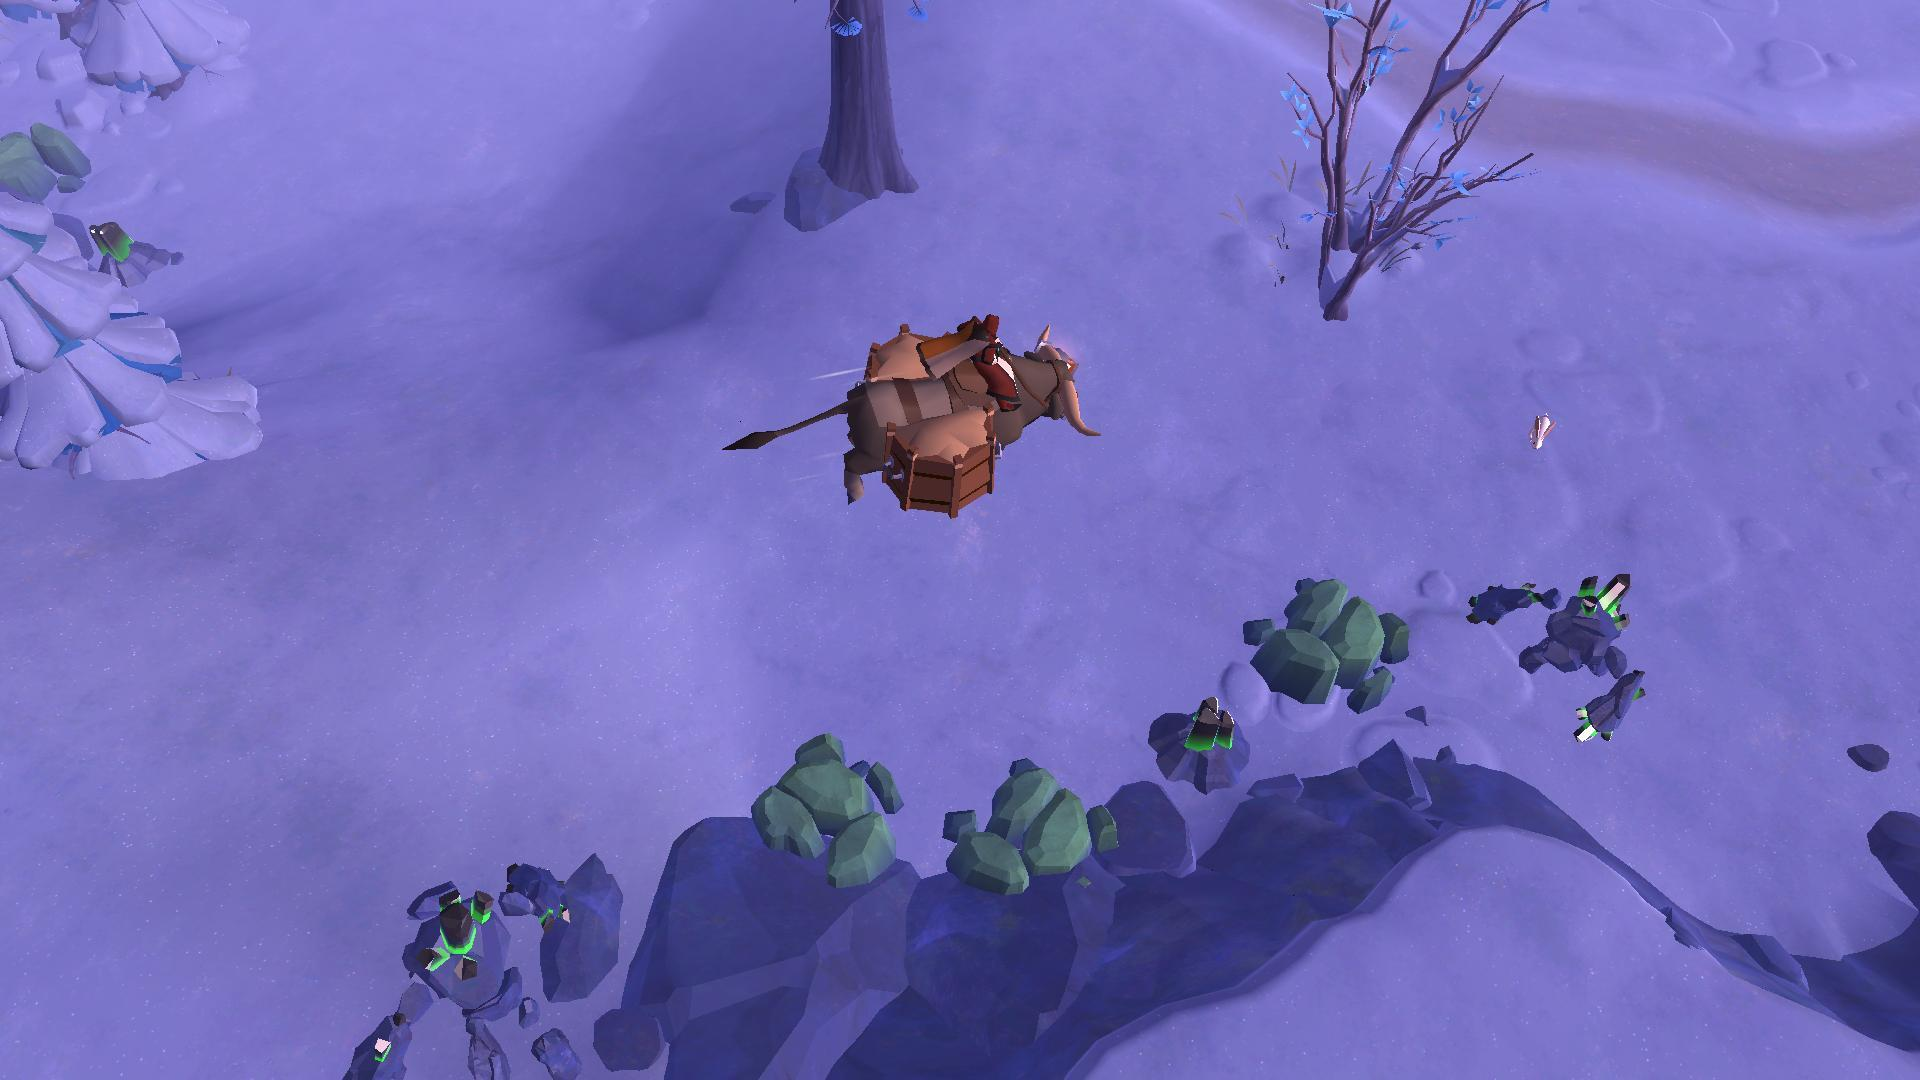ore_t3: (1182, 690, 1232, 760), (80, 210, 136, 266)
rock_t3: (733, 725, 907, 891), (1236, 566, 1415, 719), (945, 752, 1126, 902), (0, 115, 104, 206)
